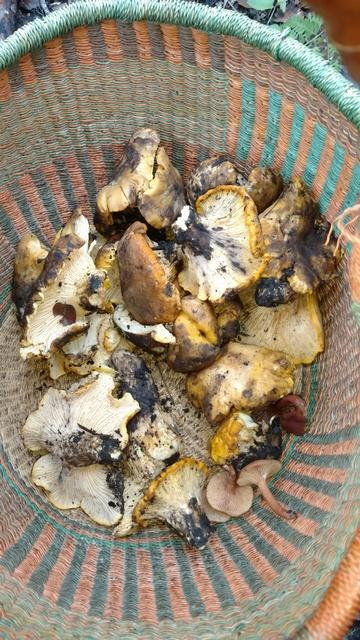edible_mushroom: (11, 127, 341, 549)
